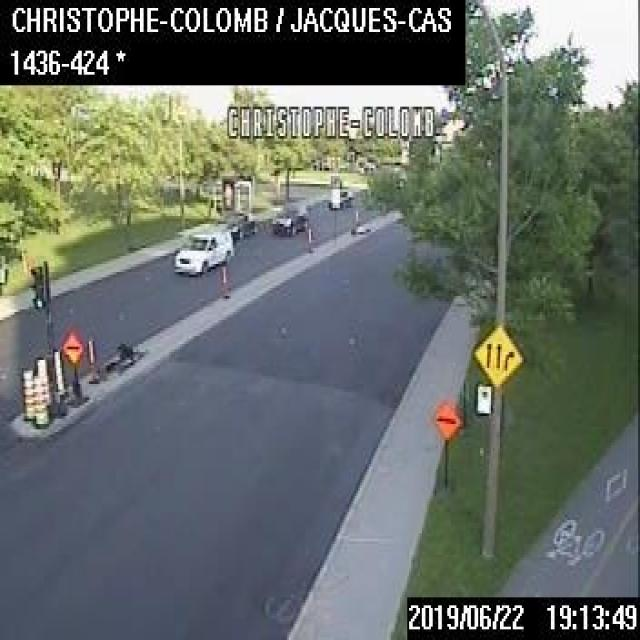construction: (432, 396, 459, 495), (61, 330, 82, 392), (35, 354, 51, 406), (32, 373, 46, 426), (21, 364, 34, 420), (51, 347, 67, 389)
vehicle: (172, 221, 233, 274), (271, 206, 307, 233), (222, 210, 253, 237), (326, 186, 351, 208)
